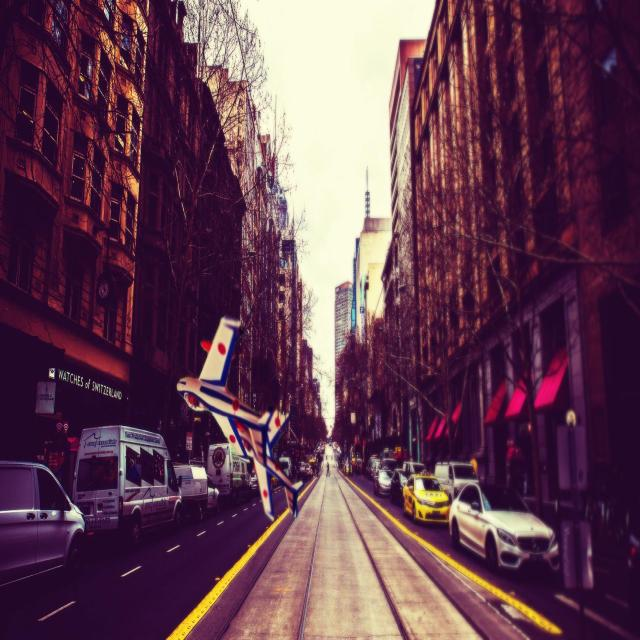airplane: (175, 315, 304, 522)
